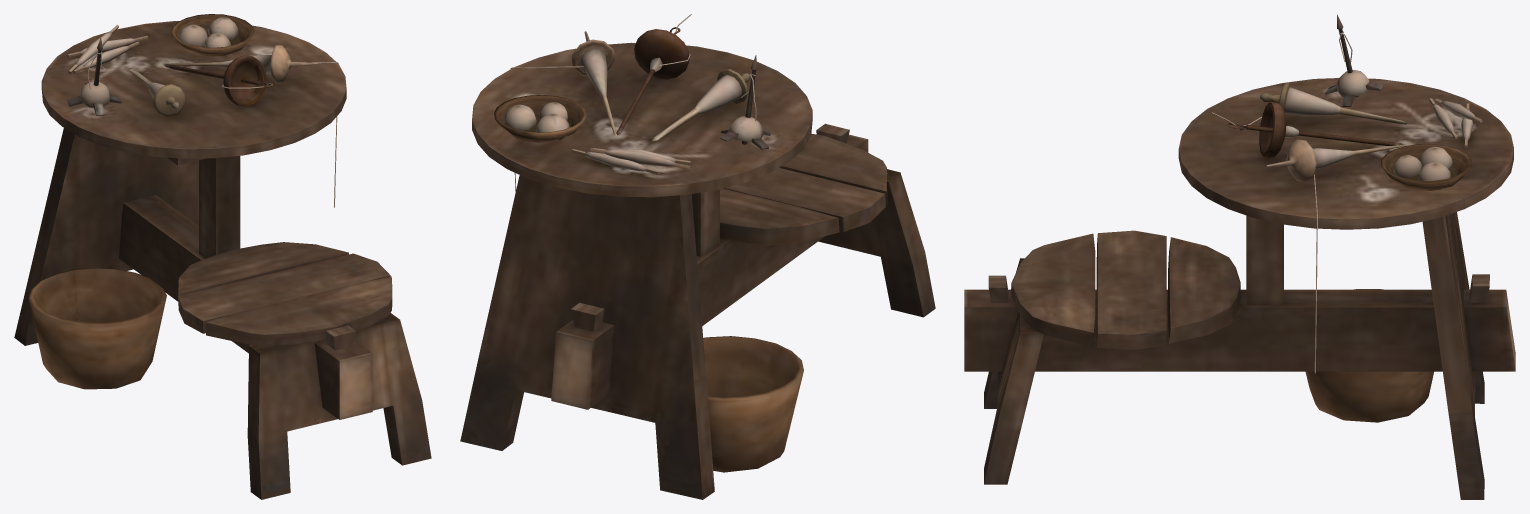
Rendered from hand_spindle.glb.
3 views of the same model, side by side, from view 1: azimuth 30°, elevation 25°; view 2: azimuth 150°, elevation 25°; view 3: azimuth 270°, elevation 25° (orthographic). The views are drawn at different scales.
Parts seen in each view (by area): view 1: npc_props_hand_spindle_01; view 2: npc_props_hand_spindle_01; view 3: npc_props_hand_spindle_01.
Part boxes in pixels (x1,y1,x2,y2): npc_props_hand_spindle_01: (14,14,431,499); npc_props_hand_spindle_01: (460,14,935,499); npc_props_hand_spindle_01: (964,14,1515,499).
Bounding box in the file's own units: 0.8456 × 1.01 × 1.32.
Materials: 1 (1 with a texture image).
